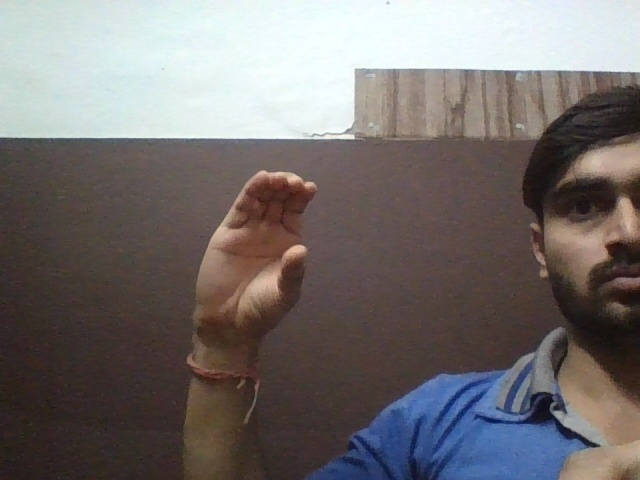C: (197, 161, 331, 326)
